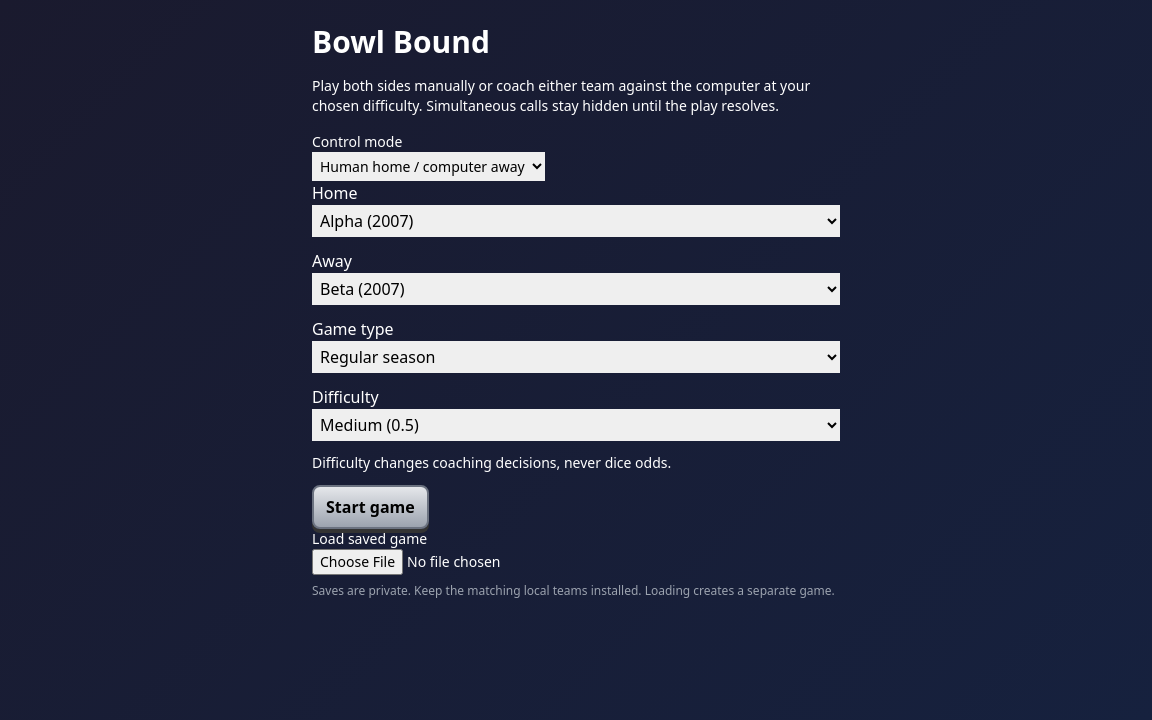
Test: stops automatic requests on error and offers retry only while an error is shown
This screenshot has width=1152, height=720.
Expected: the button with test id "start-game" is shown, top-left (312, 485), bottom-right (429, 529)
Select "Human home / computer away" in the dropdown labelled "Control mode" at (428, 166), box top-left (312, 152), bottom-right (545, 181)
Click the button with test id "start-game".
click(370, 507)  # box top-left (312, 485), bottom-right (429, 529)
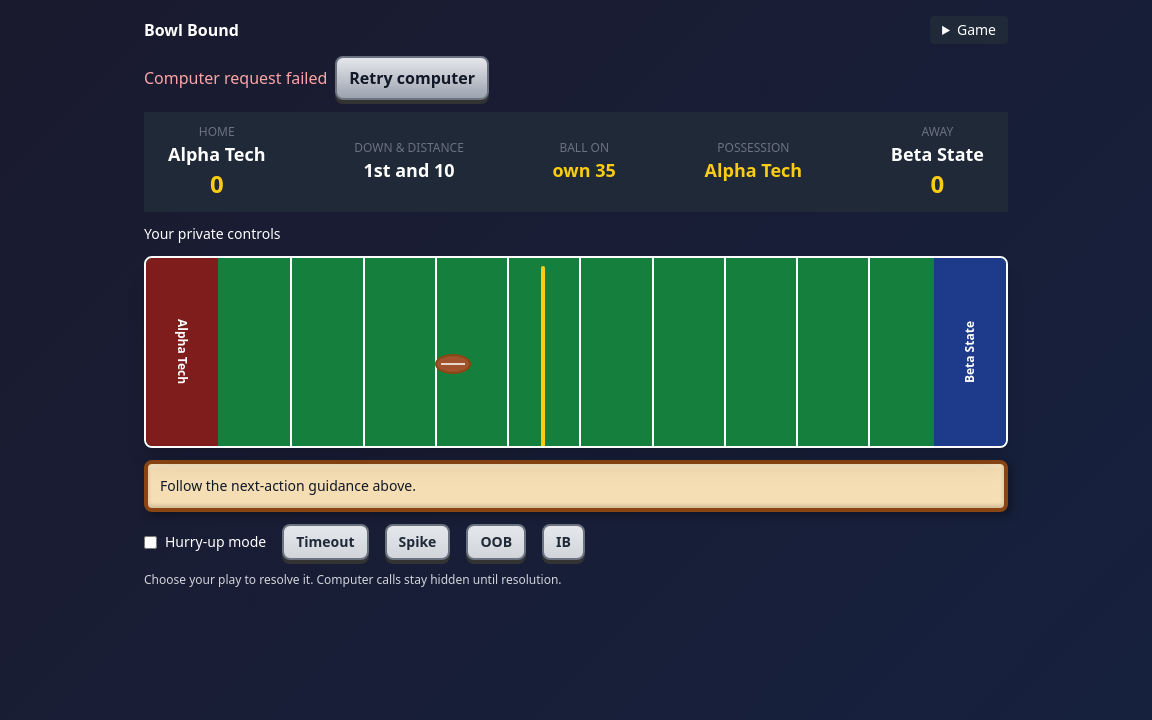
Now the message "Computer request failed Retry computer" is shown, box top-left (144, 56), bottom-right (489, 100)
Click the button "Retry computer".
click(412, 78)  # box top-left (335, 56), bottom-right (489, 100)
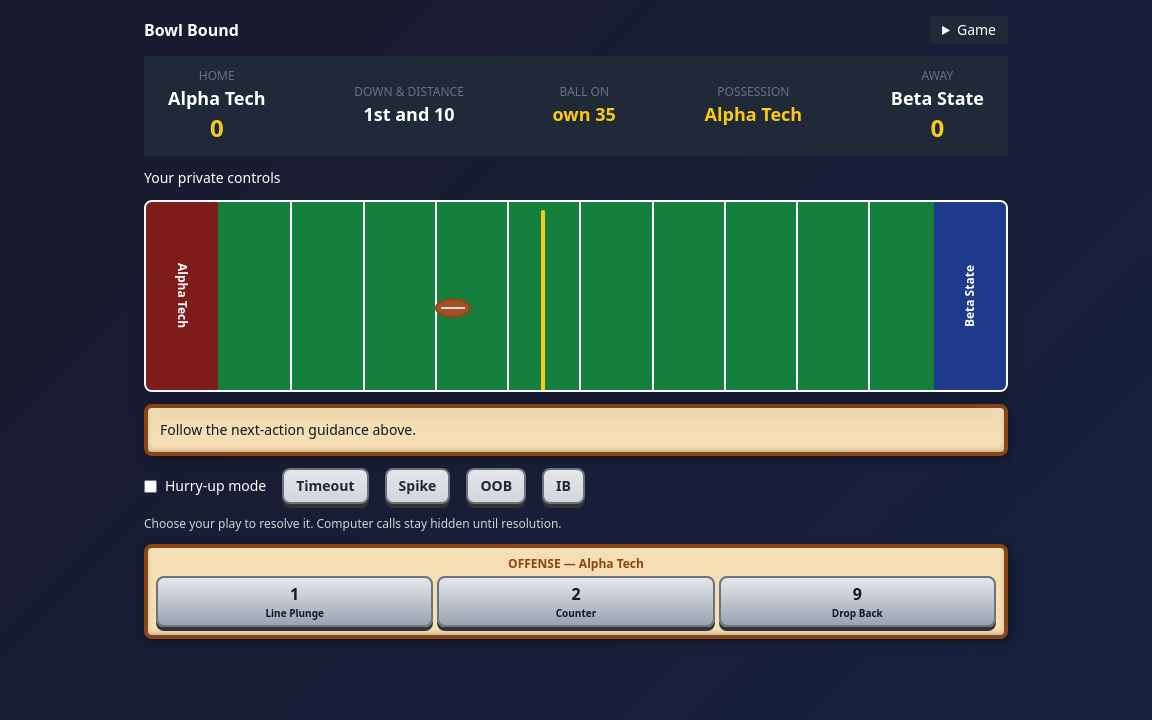
Now the button with test id "offense-play-1" is shown, box top-left (156, 576), bottom-right (433, 627)
Now the message "Computer request failed Retry computer" is gone
Now the button "Retry computer" is gone
